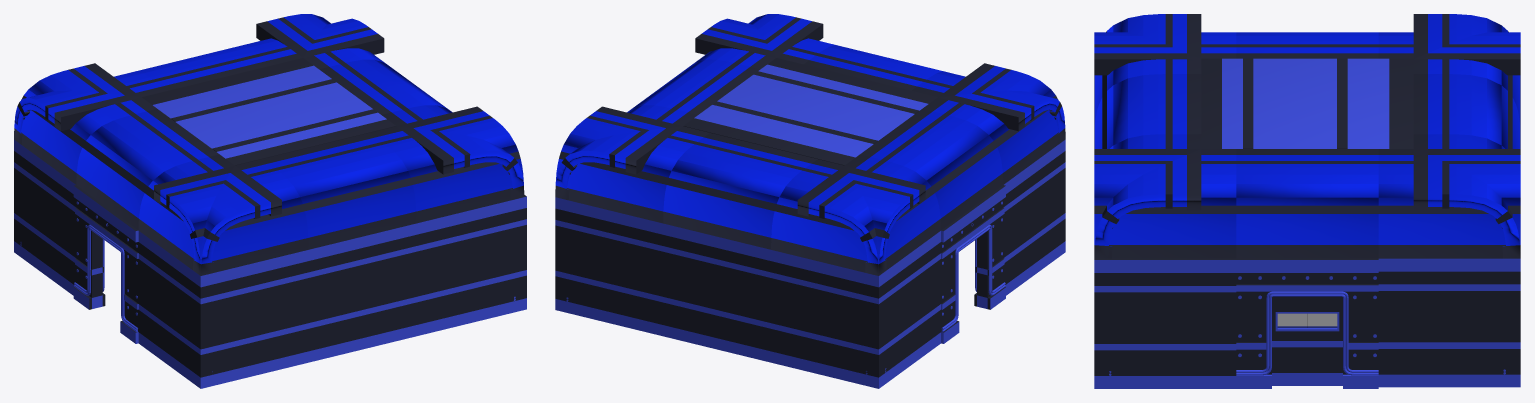
The model's file is Reception Collection.fbx.
The picture shows the model from 3 angles, left to right: view 1: azimuth 30°, elevation 25°; view 2: azimuth 150°, elevation 25°; view 3: azimuth 270°, elevation 25°; orthographic projection. The views are drawn at different scales.
Parts seen in each view (by area): view 1: Room_Reception, Room_Reception.460, Room_Reception.429, Room_Reception.696, Room_Reception.365, Room_Reception.638, Room_Reception.812, Room_Reception.396, Room_Reception.754, Room_Reception.667, Room_Reception.311, Room_Reception.580 (+11 smaller); view 2: Room_Reception, Room_Reception.029, Room_Reception.060, Room_Reception.093, Room_Reception.551, Room_Reception.609, Room_Reception.812, Room_Reception.493, Room_Reception.311, Room_Reception.396, Room_Reception.580, Room_Reception.667 (+10 smaller); view 3: Room_Reception, Room_Reception.345, Room_Reception.147, Room_Reception.114, Room_Reception.783, Room_Reception.522, Room_Reception.725, Room_Reception.551, Room_Reception.696, Room_Reception.493, Room_Reception.754, Room_Reception.609 (+9 smaller).
Part boxes in pixels (left/top/right/bottom): Room_Reception: left=142, top=58, right=395, bottom=165; Room_Reception.460: left=311, top=223, right=418, bottom=361; Room_Reception.429: left=203, top=249, right=311, bottom=388; Room_Reception.696: left=262, top=133, right=416, bottom=249; Room_Reception.365: left=419, top=200, right=516, bottom=335; Room_Reception.638: left=154, top=159, right=308, bottom=275; Room_Reception.812: left=76, top=109, right=218, bottom=230; Room_Reception.396: left=138, top=231, right=214, bottom=388; Room_Reception.754: left=370, top=106, right=524, bottom=223; Room_Reception.667: left=138, top=154, right=281, bottom=275; Room_Reception.311: left=14, top=140, right=76, bottom=295; Room_Reception.580: left=21, top=63, right=156, bottom=184; Room_Reception: left=683, top=58, right=937, bottom=165; Room_Reception.029: left=771, top=250, right=886, bottom=388; Room_Reception.060: left=663, top=223, right=770, bottom=362; Room_Reception.093: left=555, top=197, right=663, bottom=336; Room_Reception.551: left=663, top=133, right=817, bottom=249; Room_Reception.609: left=771, top=159, right=925, bottom=275; Room_Reception.812: left=860, top=109, right=1003, bottom=230; Room_Reception.493: left=555, top=106, right=709, bottom=223; Room_Reception.311: left=865, top=231, right=940, bottom=388; Room_Reception.396: left=1003, top=139, right=1065, bottom=295; Room_Reception.580: left=797, top=154, right=940, bottom=275; Room_Reception.667: left=922, top=63, right=1058, bottom=184; Room_Reception: left=1201, top=58, right=1413, bottom=148; Room_Reception.345: left=1094, top=258, right=1236, bottom=388; Room_Reception.147: left=1236, top=258, right=1378, bottom=388; Room_Reception.114: left=1378, top=258, right=1506, bottom=387; Room_Reception.783: left=1236, top=149, right=1378, bottom=258; Room_Reception.522: left=1378, top=149, right=1520, bottom=258; Room_Reception.725: left=1094, top=149, right=1236, bottom=258; Room_Reception.551: left=1413, top=74, right=1520, bottom=148; Room_Reception.696: left=1094, top=74, right=1201, bottom=148; Room_Reception.493: left=1413, top=134, right=1520, bottom=258; Room_Reception.754: left=1094, top=134, right=1201, bottom=258; Room_Reception.609: left=1413, top=14, right=1520, bottom=131.
Bounding box in the file's own units: 610 × 301 × 600.
